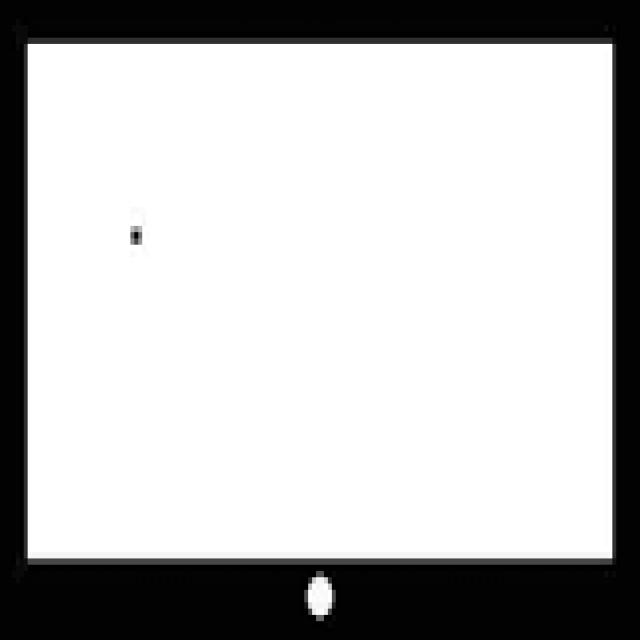dead_pixel: (122, 215, 154, 258)
